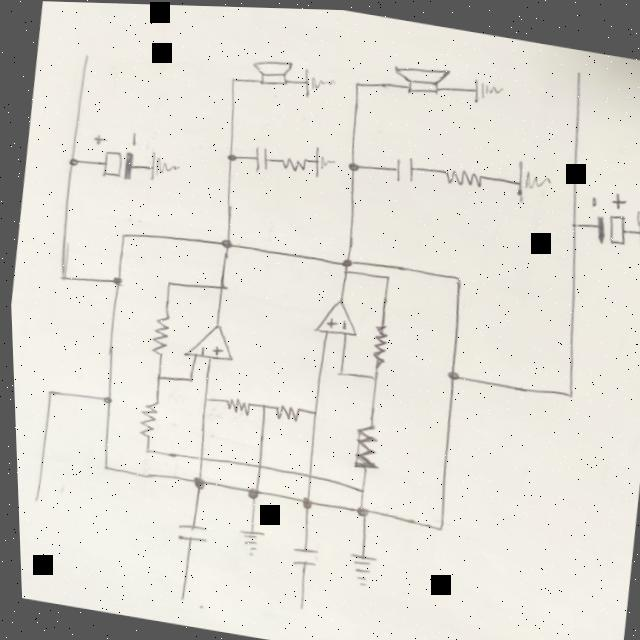capacitor: (85, 126, 138, 181), (581, 186, 629, 242), (169, 518, 203, 546), (387, 152, 416, 184), (285, 542, 314, 567), (248, 144, 267, 173)
ground: (508, 156, 553, 204), (340, 549, 375, 586), (143, 151, 181, 185), (297, 66, 336, 99), (465, 74, 505, 105), (231, 525, 262, 558), (306, 146, 337, 177), (627, 207, 640, 250)
junction: (211, 231, 240, 257), (560, 209, 584, 233), (342, 152, 364, 175), (181, 472, 206, 491), (291, 491, 312, 510), (240, 484, 261, 502), (103, 271, 124, 289), (347, 500, 367, 518), (438, 365, 458, 381), (95, 392, 113, 409), (61, 153, 80, 169), (334, 253, 353, 268), (220, 149, 238, 164), (447, 270, 461, 284), (212, 280, 227, 293), (114, 230, 129, 243), (365, 369, 378, 383), (53, 271, 67, 284), (350, 483, 365, 495), (159, 277, 174, 289), (303, 405, 316, 418), (138, 444, 151, 457), (427, 520, 441, 532), (330, 365, 344, 377), (336, 265, 350, 277), (39, 387, 53, 399), (249, 459, 263, 471), (149, 371, 162, 383), (196, 393, 209, 405), (95, 461, 109, 472), (179, 373, 193, 384), (299, 469, 313, 480), (560, 386, 572, 398), (191, 453, 202, 464), (378, 271, 390, 281), (226, 75, 238, 84), (350, 78, 361, 87), (254, 400, 265, 409)
resistor: (346, 421, 379, 470), (144, 311, 169, 358), (131, 397, 157, 441), (364, 320, 387, 367), (438, 164, 483, 188), (274, 152, 310, 174), (266, 399, 296, 423), (218, 395, 248, 416)
terminal: (570, 65, 585, 78), (79, 50, 93, 63), (170, 591, 183, 603), (288, 600, 301, 612), (24, 494, 37, 505)
